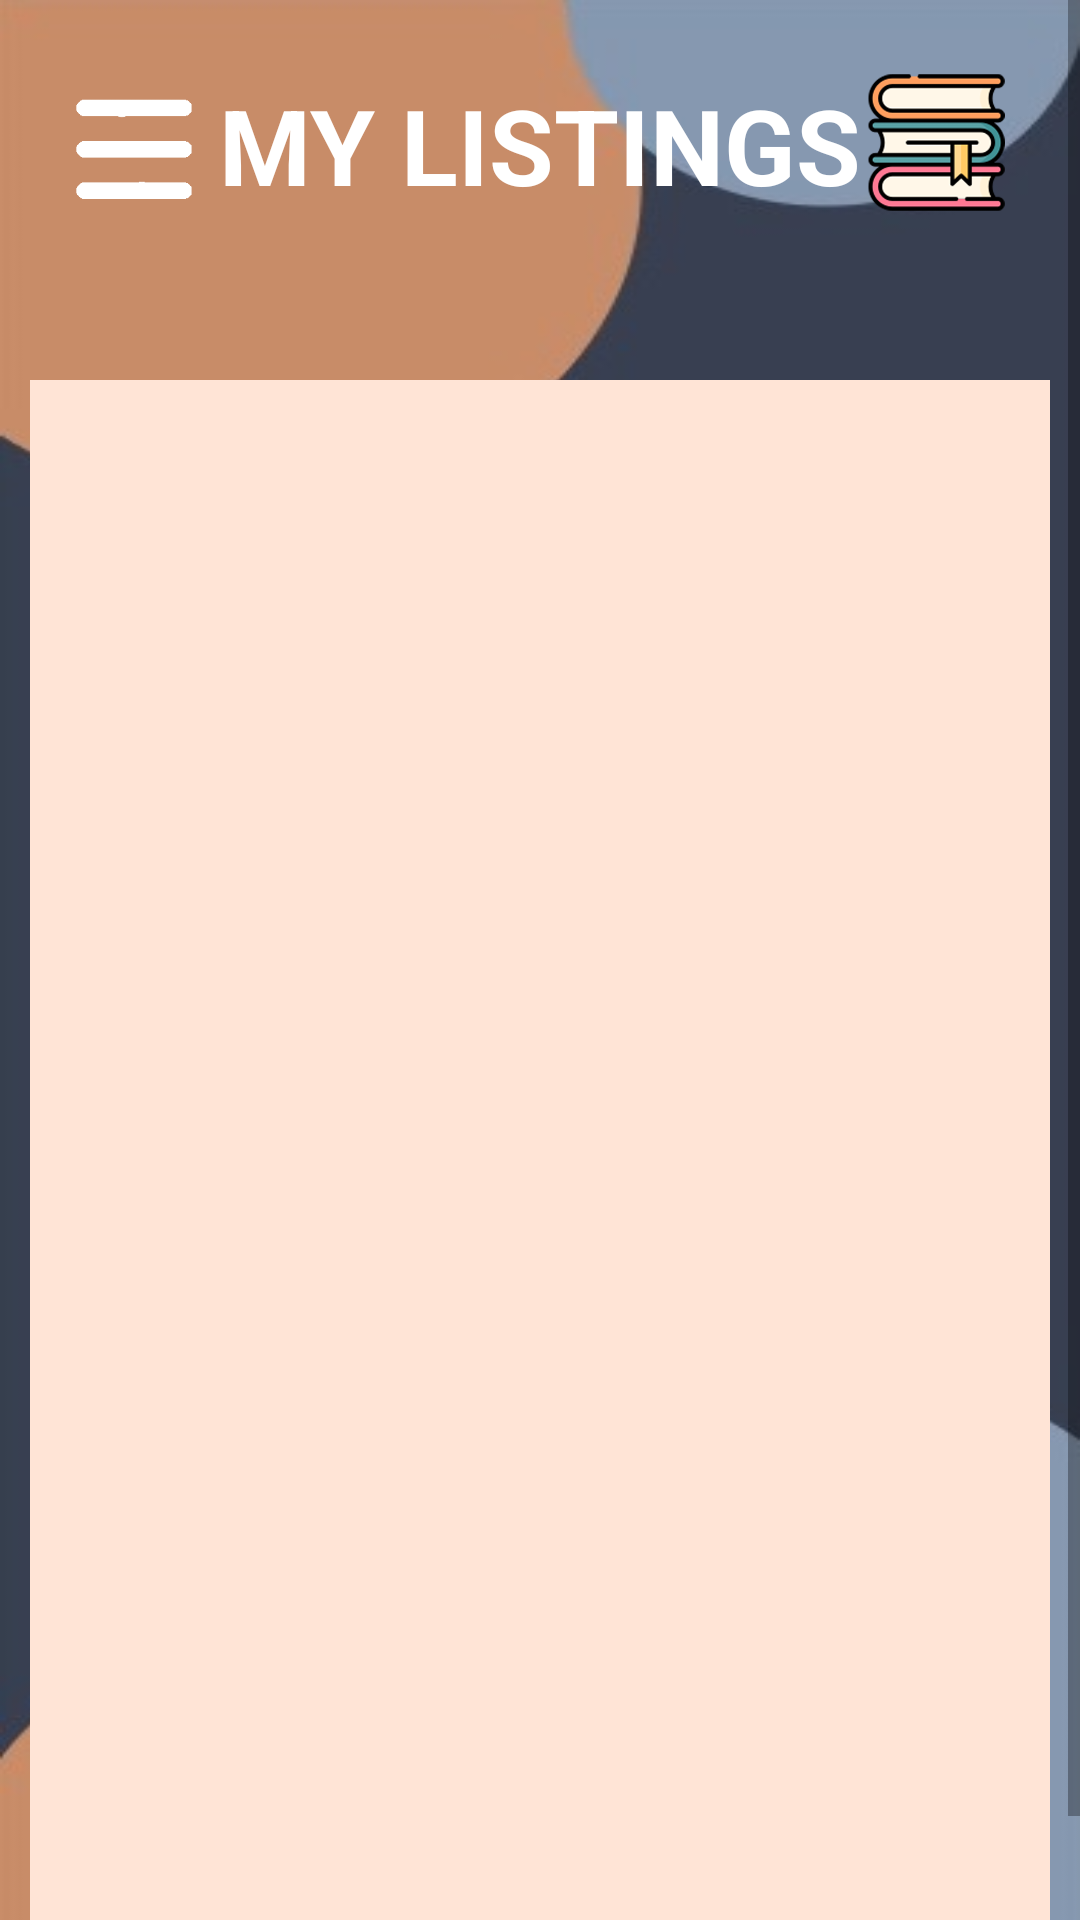

Icon click points for this 1080px×1920px phone screenshot, format point (x, y):
menuwhite: point (134, 149)
